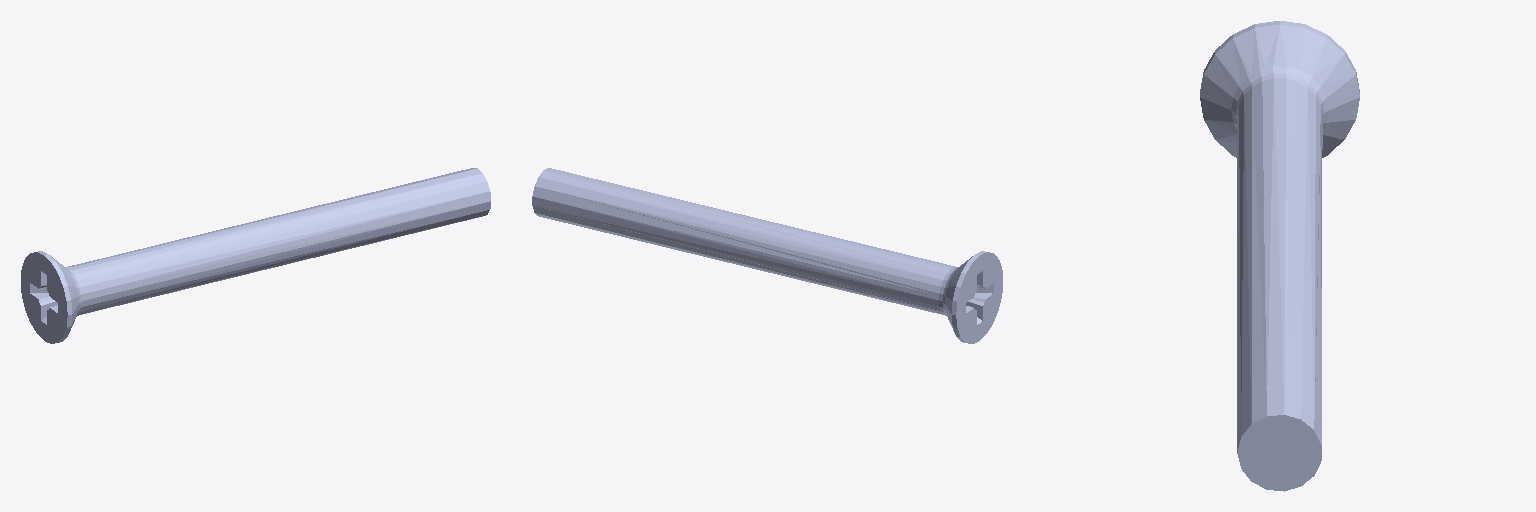
The robot description file, URDF, robot "screw2(6ea)":
<?xml version="1.0" encoding="utf-8"?>
<!-- =================================================================================== -->
<!-- |    This document was autogenerated by xacro from [local-path]/catkin_ws/src/cai_env/urdf/screw2.urdf.xacro | -->
<!-- |    EDITING THIS FILE BY HAND IS NOT RECOMMENDED                                 | -->
<!-- =================================================================================== -->
<!-- This URDF was automatically created by SolidWorks to URDF Exporter! Originally created by [author] ([email redacted]) 
     Commit Version: 1.5.1-0-g916b5db  Build Version: 1.5.7152.31018
     For more information, please see http://wiki.ros.org/sw_urdf_exporter -->
<robot name="screw2(6ea)" xmlns:xacro="http://www.ros.org/wiki/xacro">
  <link name="link">
    <inertial>
      <origin rpy="0 0 0" xyz="0.003536 -6.84910000438268E-19 -7.1577E-12"/>
      <mass value="0.0017863"/>
      <inertia ixx="9.88E-09" ixy="1.96610000000017E-19" ixz="-2.8268E-16" iyy="5.862E-07" iyz="3.2286E-20" izz="5.862E-07"/>
    </inertial>
    <visual>
      <origin rpy="1.5707963267949 0 0" xyz="-0.025 0 0"/>
      <geometry>
        <mesh filename="package://cai_env/meshes/screw2(6ea).STL"/>
      </geometry>
      <material name="">
        <color rgba="0.79216 0.81961 0.93333 1"/>
        <texture filename="package://cai_env/textures/"/>
      </material>
    </visual>
    <collision>
      <origin rpy="1.5707963267949 0 0" xyz="-0.025 0 0"/>
      <geometry>
        <mesh filename="package://cai_env/meshes/screw2(6ea).STL"/>
      </geometry>
    </collision>
  </link>
  <gazebo reference="link">
    <material>Gazebo/GreyTransparent</material>
    <kp>1000000.0</kp>
    <kd>100.0</kd>
    <mu1>1000.0</mu1>
    <mu2>1000.0</mu2>
    <maxVel>0</maxVel>
    <minDepth>0.001</minDepth>
  </gazebo>
</robot>

--- Render facts (derived) ---
The picture shows the robot from 3 angles, left to right: view 1: azimuth 30°, elevation 25°; view 2: azimuth 150°, elevation 25°; view 3: azimuth 270°, elevation 25°; orthographic projection.
Model screw2(6ea) with 1 links and 0 joints (none), rooted at link, posed all joints at 0.
Visible links, largest first — view 1: link; view 2: link; view 3: link.
Link boxes in pixels (bbox=[...]): link: bbox=[21, 168, 490, 343]; link: bbox=[532, 168, 1002, 343]; link: bbox=[1200, 21, 1359, 491].
Size in the robot's own frame: 0.06 by 0.0113 by 0.0113 metres.
Meshes: 1 distinct files referenced, 1 mesh visuals loaded (1 binary STL).
